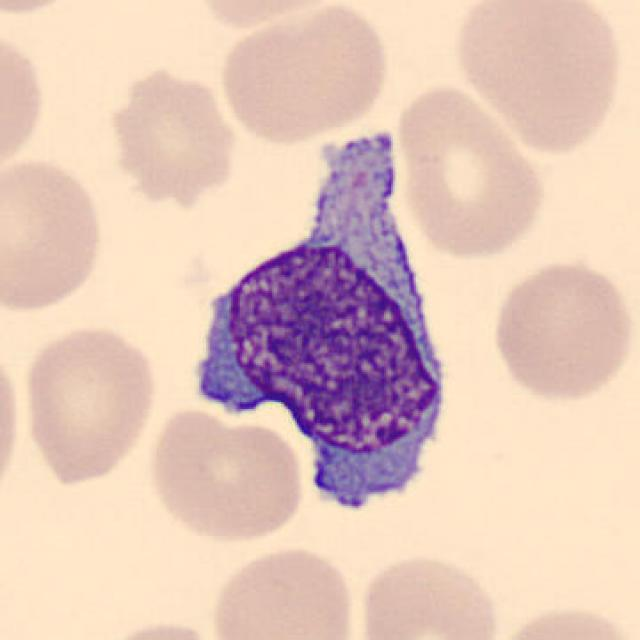Monocyte: (185, 131, 476, 506)
RBC: (391, 79, 549, 263), (448, 0, 628, 157), (215, 0, 393, 146), (18, 321, 160, 488), (144, 404, 308, 546), (486, 255, 636, 406), (103, 62, 242, 208), (0, 153, 108, 317), (206, 541, 359, 640), (352, 548, 505, 640), (0, 23, 48, 180), (486, 599, 636, 640), (183, 0, 350, 32), (0, 334, 25, 512), (89, 615, 233, 640), (0, 0, 87, 18)
